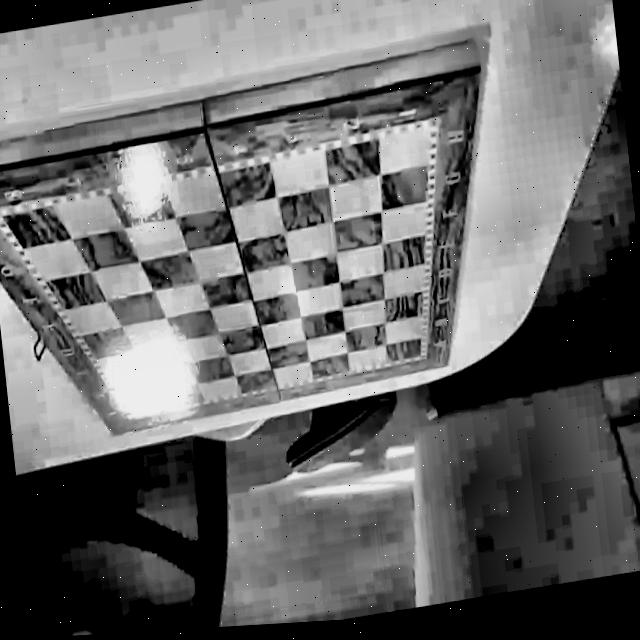chessboard: (0, 115, 439, 423)
p1: (412, 349, 422, 359)
p2: (127, 408, 135, 417)
p3: (0, 214, 10, 228)
p4: (422, 125, 430, 136)
